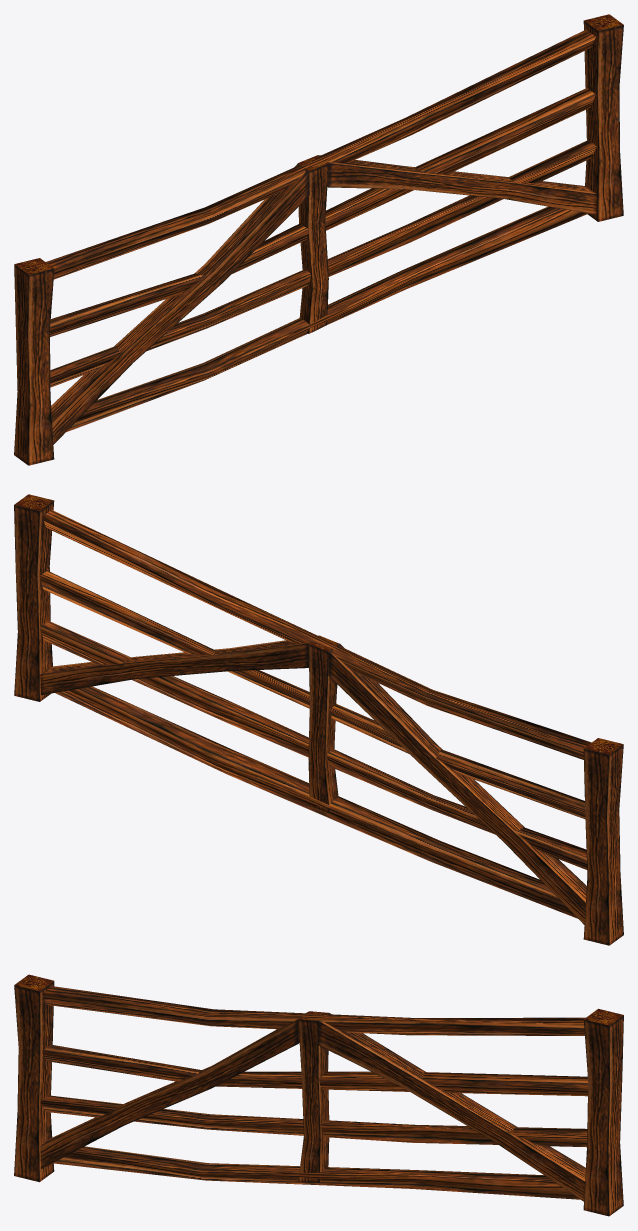
The model's file is INST_HTOWN_FENCEBRNGT10DEG_ANI.obj.
3 renders of one model, top to bottom at view 1: azimuth 30°, elevation 25°; view 2: azimuth 150°, elevation 25°; view 3: azimuth 330°, elevation 25°, orthographic.
Parts seen in each view (by area): view 1: BrnGt10deg_Lod1; view 2: BrnGt10deg_Lod1; view 3: BrnGt10deg_Lod1.
Part boxes in pixels (<box>): BrnGt10deg_Lod1: <box>14,14,623,465</box>; BrnGt10deg_Lod1: <box>14,494,623,945</box>; BrnGt10deg_Lod1: <box>14,974,623,1216</box>.
Bounding box in the file's own units: 315 × 149 × 14.64.
